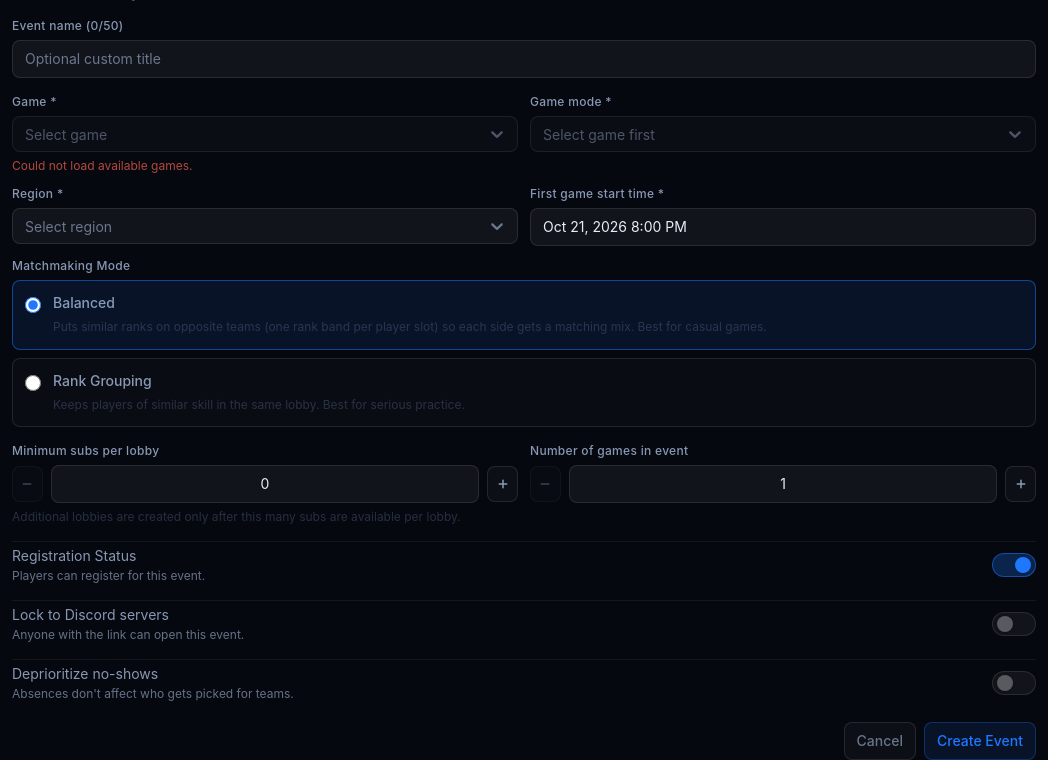
Test: EventForm (create) › shows validation errors when required fields are empty
Click the button "Create Event". click: (980, 741)
box: [924, 722, 1036, 759]
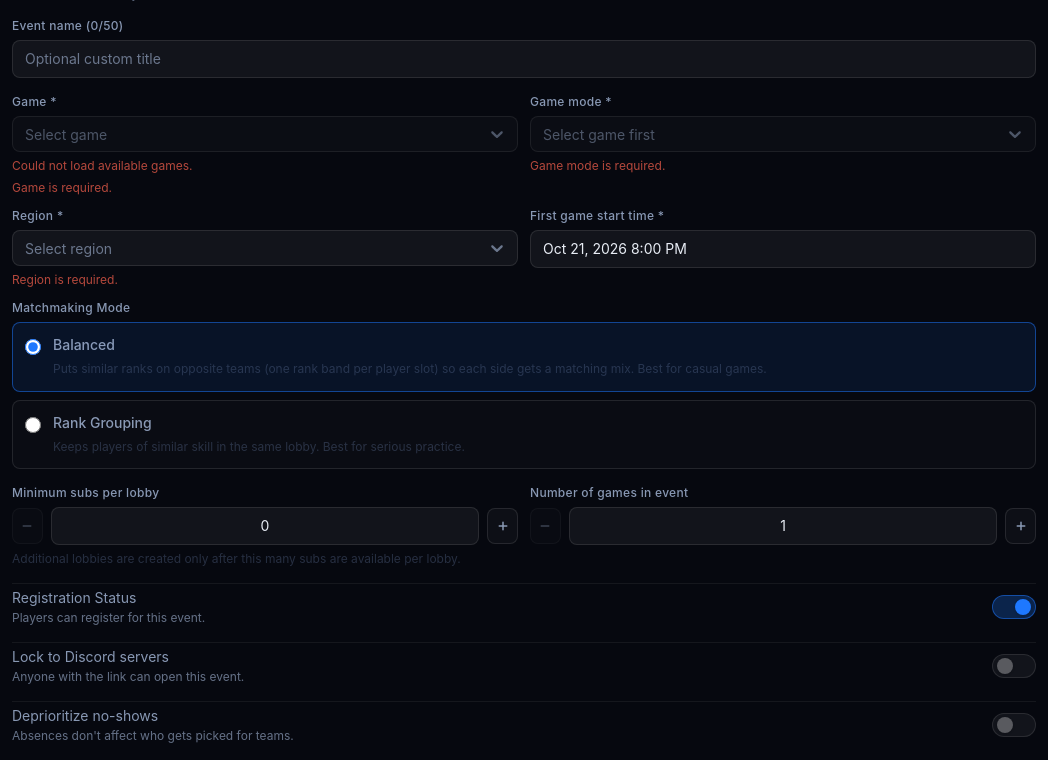
Check: the text "Game is required." is shown, box [12, 180, 112, 195]
Check: the text "Region is required." is shown, box [12, 272, 118, 287]
